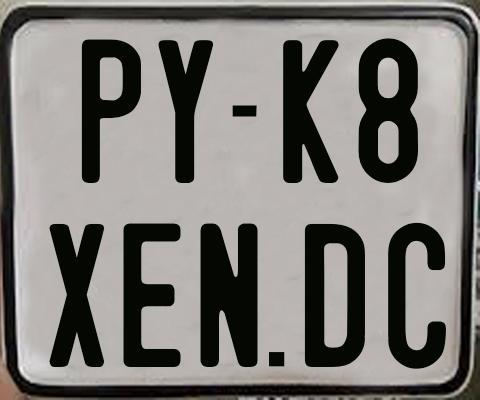8: (357, 37, 417, 188)
C: (386, 221, 445, 372)
D: (303, 222, 369, 365)
E: (122, 221, 184, 370)
K: (281, 39, 341, 186)
N: (198, 223, 260, 367)
P: (81, 39, 146, 188)
X: (48, 223, 103, 371)
Y: (158, 40, 215, 185)
